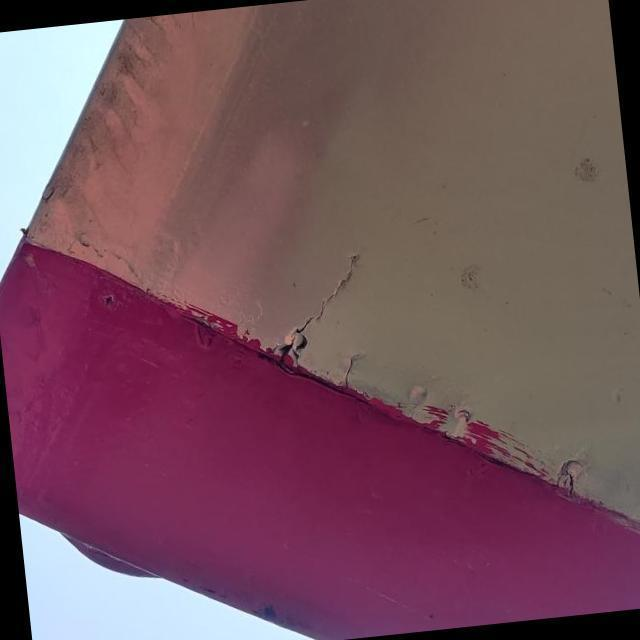Rupture: (256, 242, 376, 376), (331, 346, 368, 396), (556, 460, 583, 505)
